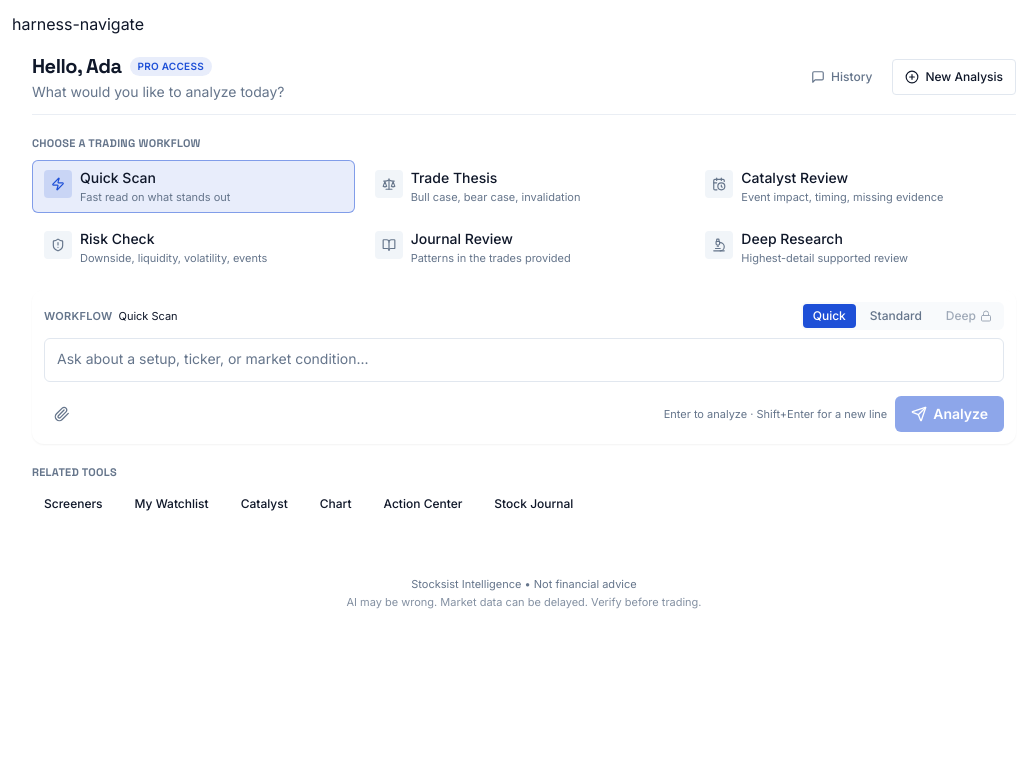
Test: AI Analyst — request lifecycle › clears the rotating status interval when a request fails
This screenshot has width=1036, height=780.
In the text box with placeholder "Ask about a setup, ticker, or market condition...": (524, 360) x1=44 y1=338 x2=1004 y2=382, type "Check RVOL"
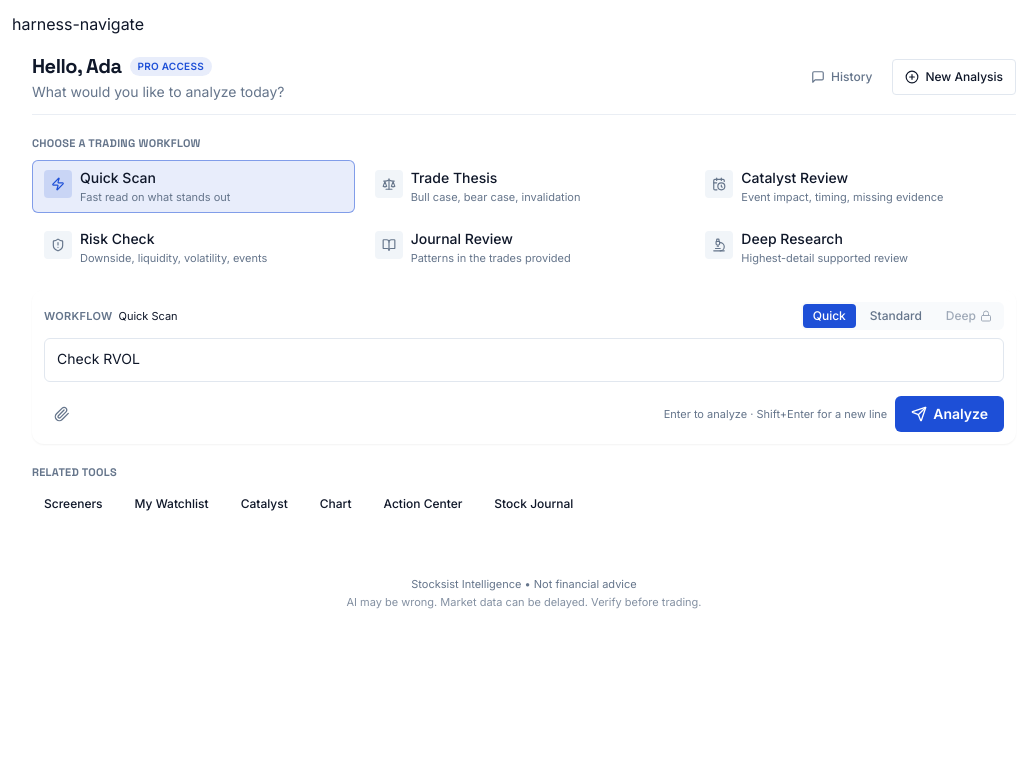
Press Enter in the text box with placeholder "Ask about a setup, ticker, or market condition...", box x1=44 y1=338 x2=1004 y2=382
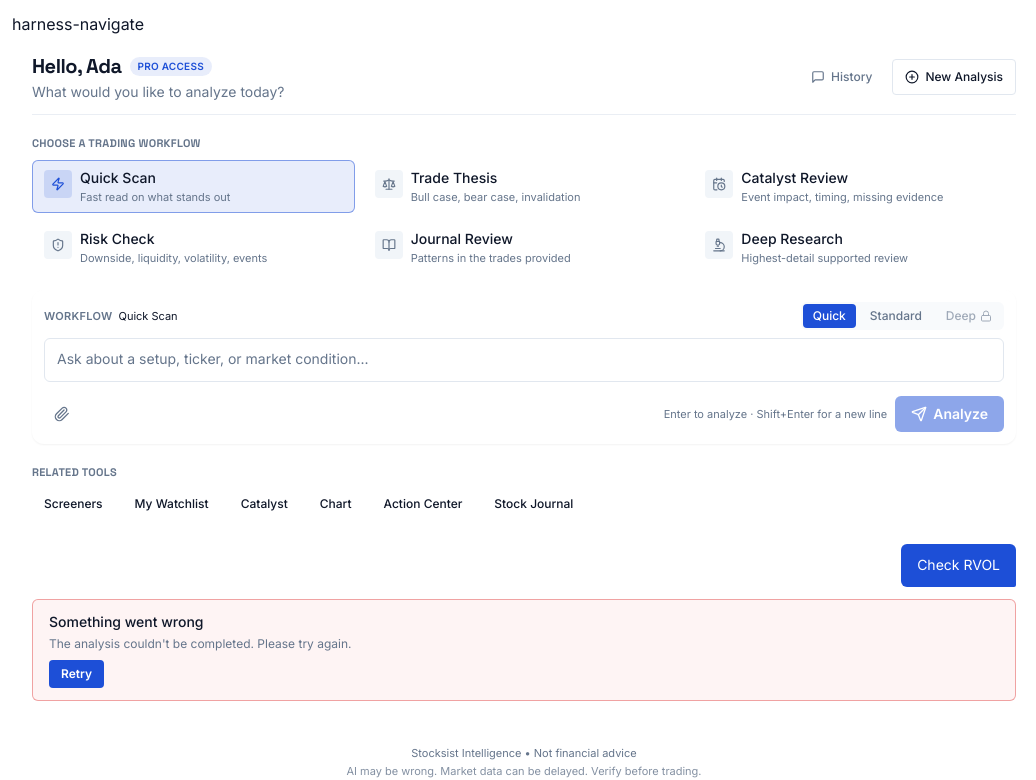
Check: the text "Something went wrong" is shown, box x1=49 y1=613 x2=204 y2=630
